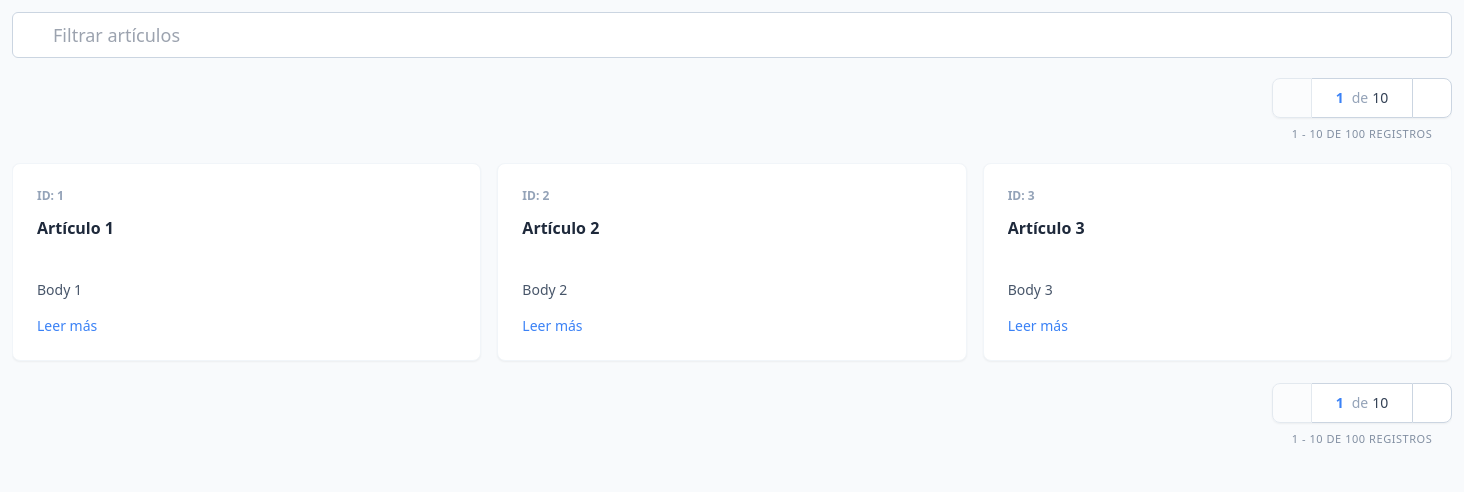
ArticlesList - Integración › Éxito y Filtrado › debería filtrar artículos dinámicamente mediante la SearchBar
Type "Artículo 1" into the search field with test id "search-input". click: (732, 35)
box: [12,12,1452,58]
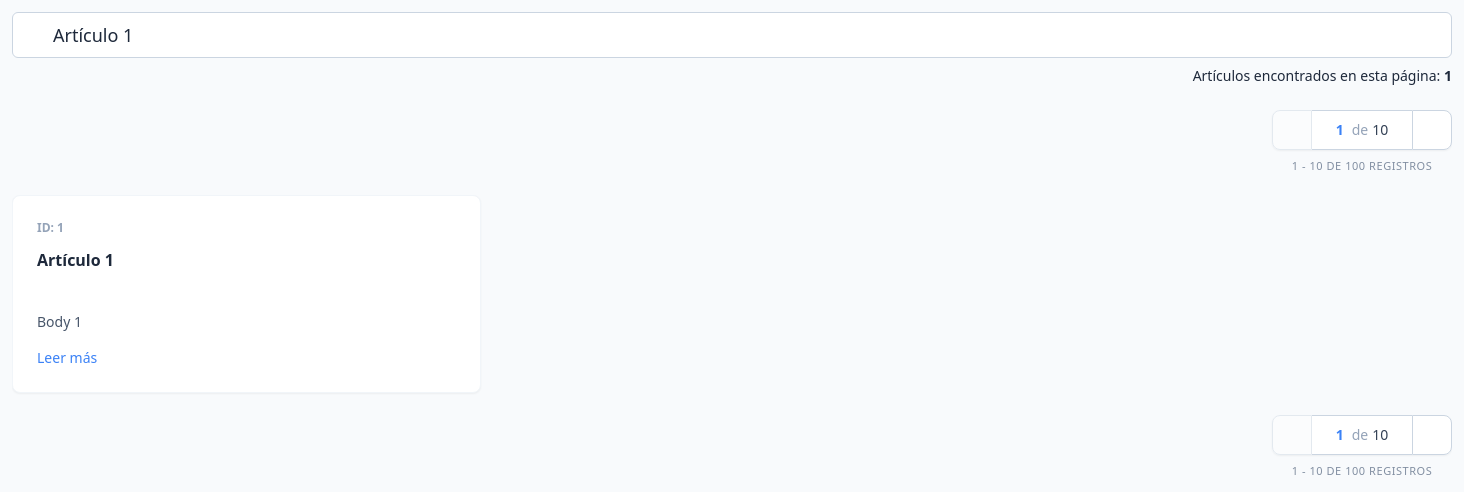
Expected: the button with test id "article-card" shows "Artículo 1", [12,194,481,392]
Now the element with test id "search-result-info" is shown, box [1193,66,1452,85]
